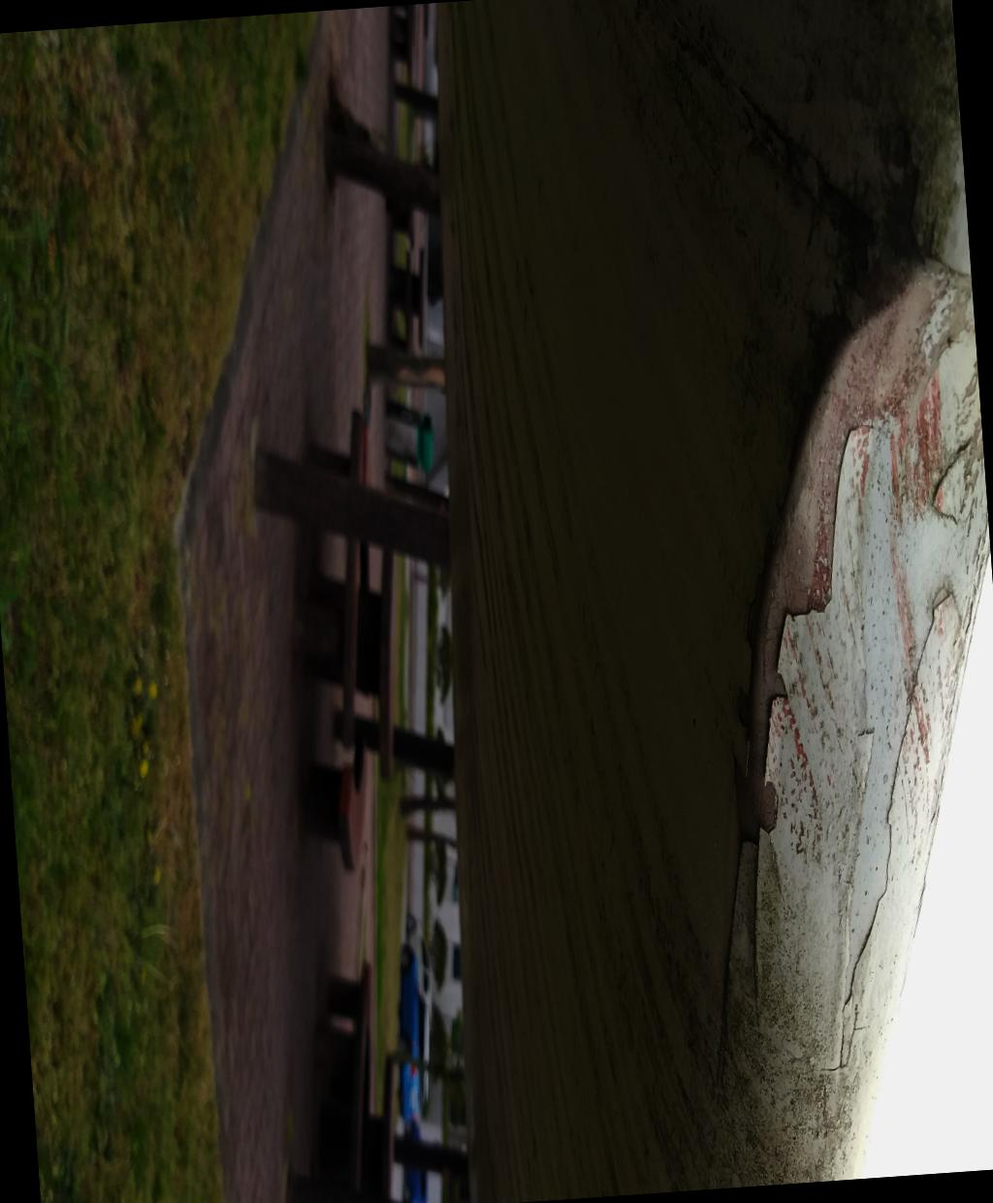corrosion: (528, 0, 879, 600)
